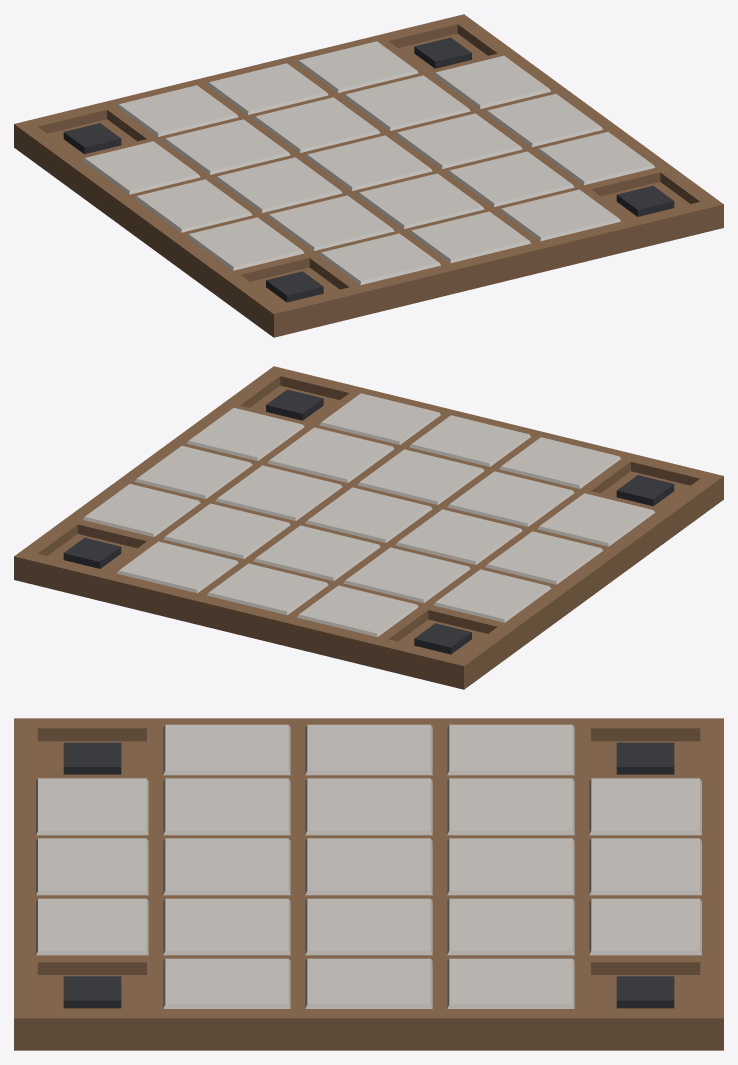
File: ceiling-bay-blank-bf7f96.glb
3 renders of one model, top to bottom at view 1: azimuth 30°, elevation 25°; view 2: azimuth 150°, elevation 25°; view 3: azimuth 270°, elevation 25°, orthographic. The views are drawn at different scales.
Parts seen in each view (by area): view 1: ceiling-grid; view 2: ceiling-grid; view 3: ceiling-grid.
Boxes of the visible parts, x1,y1,x2,y2 form: ceiling-grid: (14, 14, 723, 337); ceiling-grid: (14, 366, 723, 689); ceiling-grid: (14, 718, 723, 1050).
Bounding box in the file's own units: 3 × 0.168 × 3.
